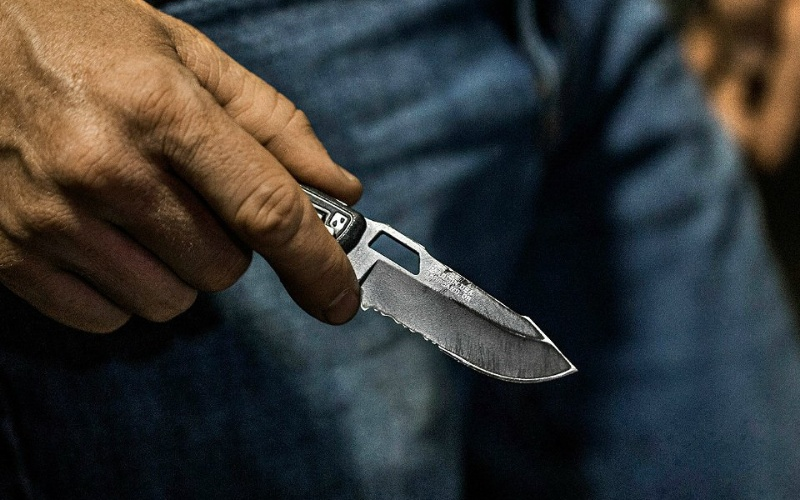knife: (168, 113, 582, 388)
